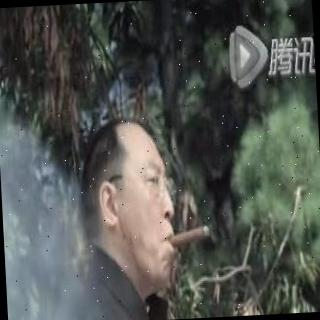smoke: (0, 157, 79, 320)
